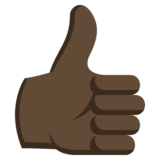thumbs_up: (4, 0, 147, 156)
